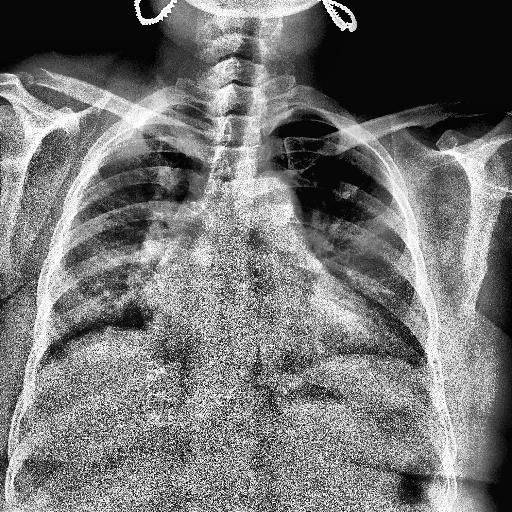0- Aortic enlargement: (234, 175, 304, 233), (239, 172, 302, 232), (246, 175, 302, 235)
11- Pleural thickening: (96, 122, 139, 162)
3- Cardiomegaly: (136, 284, 390, 376), (139, 248, 374, 346), (140, 282, 402, 358)
7- Lung Opacity: (308, 209, 426, 350), (58, 198, 162, 334)
